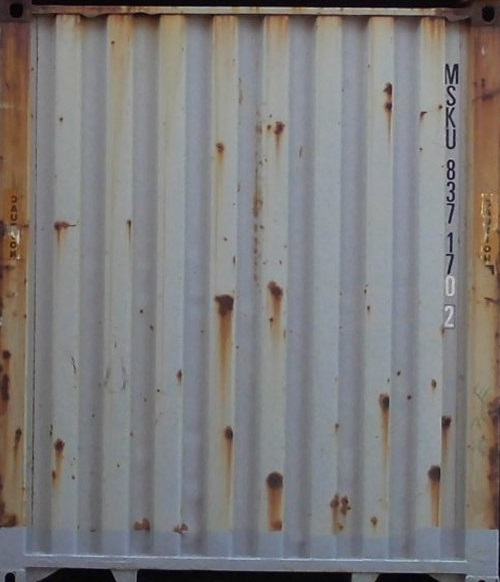container_no_door: (1, 1, 489, 582)
